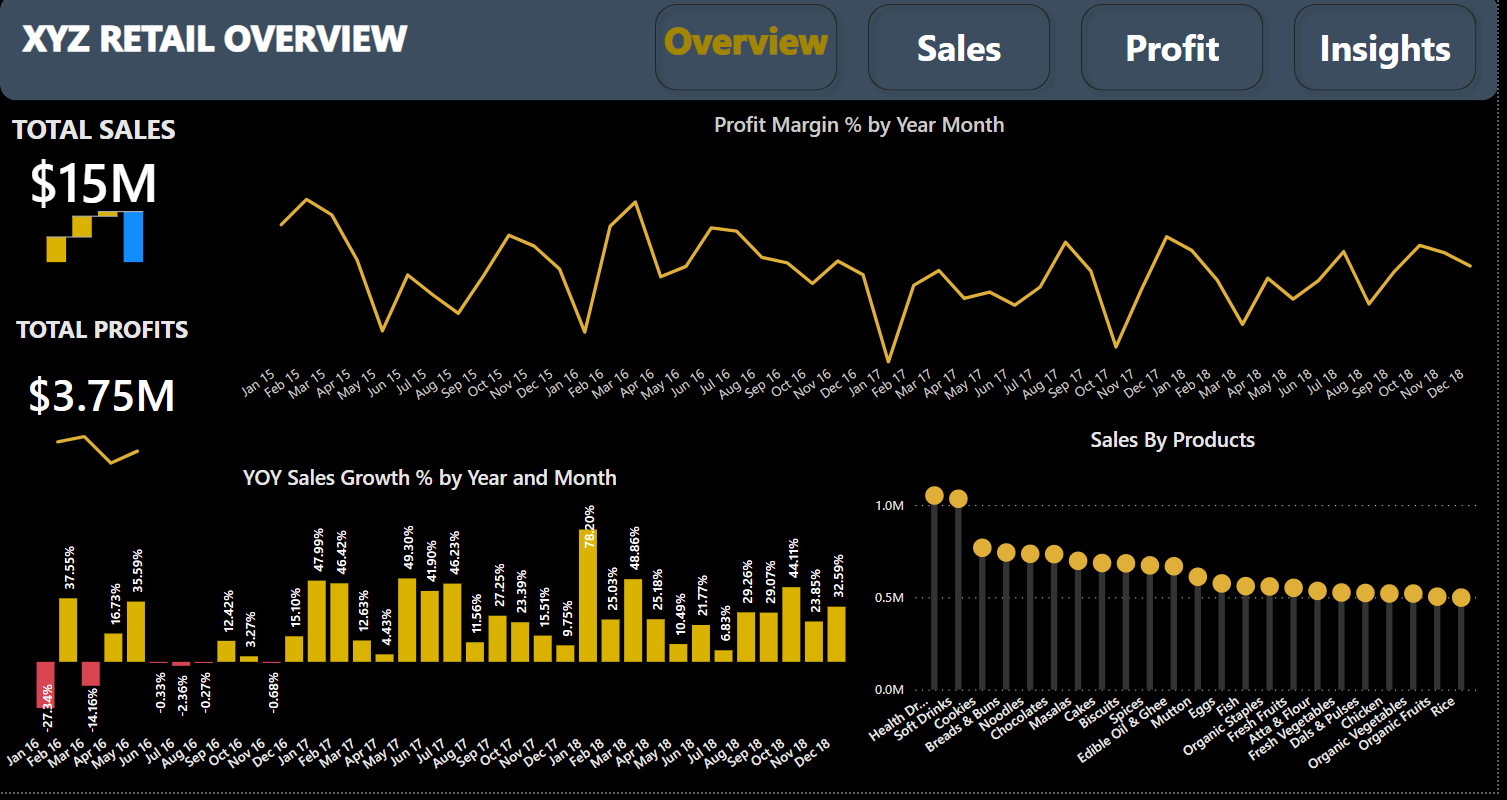

The page's visual inventory and layout, read from the dashboard file:
{"tool":"powerbi","page":{"name":"Overview","canvas":[1350,720],"ordinal":0},"visuals":[{"type":"group","id":"g1","title":"Group 1","box":[0,105,168.8,142.5],"z":0},{"type":"card","title":"TOTAL SALES","fields":{"Values":["_Measures.Total Sales"]},"box":[0,105,168.8,93.8],"z":0,"group":"g1"},{"type":"lineChart","fields":{"Category":["Calendar Table.Year"],"Y":["_Measures.Profit Margin %"]},"box":[37.7,370.3,101.6,62.3],"z":0,"group":"g2"},{"type":"waterfallChart","fields":{"Category":["Calendar Table.Year"],"Y":["_Measures.Sales YOY Growth %"]},"box":[37.5,180,97.5,67.5],"z":1000,"group":"g1"},{"type":"card","title":"TOTAL PROFITS","fields":{"Values":["_Measures.Total Profit"]},"box":[0,287.5,183.8,116.2],"z":1000,"group":"g2"},{"type":"clusteredColumnChart","title":"YOY Sales Growth % by Year and Month","fields":{"Y":["_Measures.Sales YOY Growth %"],"Category":["Calendar Table.Year Month"]},"box":[0,422.5,775,297.5],"z":1000},{"type":"lineChart","fields":{"Y":["_Measures.Profit Margin %"],"Category":["Calendar Table.Year Month"]},"box":[210,105,1130,283.8],"z":2000},{"type":"lineClusteredColumnComboChart","title":"Sales By Products","fields":{"Y":["_Measures.Blank 1","_Measures.Total Sales","_Measures.Blank 2"],"Y2":["_Measures.Total Sales"],"Category":["Dim_Category.Sub Category"]},"box":[775.4,388.5,563.9,331.1],"z":3000},{"type":"group","id":"g2","title":"Group 2","box":[0,287.5,183.8,145.1],"z":4000},{"type":"shape","box":[0,0,1350,96.2],"z":5000},{"type":"textbox","box":[0,12.5,387.5,71.2],"z":6000},{"type":"pageNavigator","box":[581.2,0,758.8,96.2],"z":7000}]}

Visuals, with their boxes in screenshot pixels (x1, y1, x2, y2), scaled from the page's 1350x720 canvas onto the 1507x800 screenshot:
"Group 1" group: detection(0, 117, 188, 275)
"TOTAL SALES" card: detection(0, 117, 188, 221)
lineChart - Calendar Table.Year x _Measures.Profit Margin %: detection(42, 411, 156, 481)
waterfallChart - Calendar Table.Year x _Measures.Sales YOY Growth %: detection(42, 200, 151, 275)
"TOTAL PROFITS" card: detection(0, 319, 205, 449)
"YOY Sales Growth % by Year and Month" clusteredColumnChart: detection(0, 469, 865, 799)
lineChart - _Measures.Profit Margin % x Calendar Table.Year Month: detection(234, 117, 1496, 432)
"Sales By Products" lineClusteredColumnComboChart: detection(866, 432, 1495, 799)
"Group 2" group: detection(0, 319, 205, 481)
shape: detection(0, 0, 1506, 107)
textbox: detection(0, 14, 433, 93)
pageNavigator: detection(649, 0, 1496, 107)
